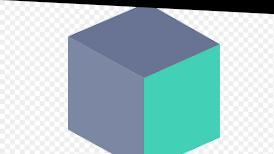cube: (68, 3, 219, 154)
